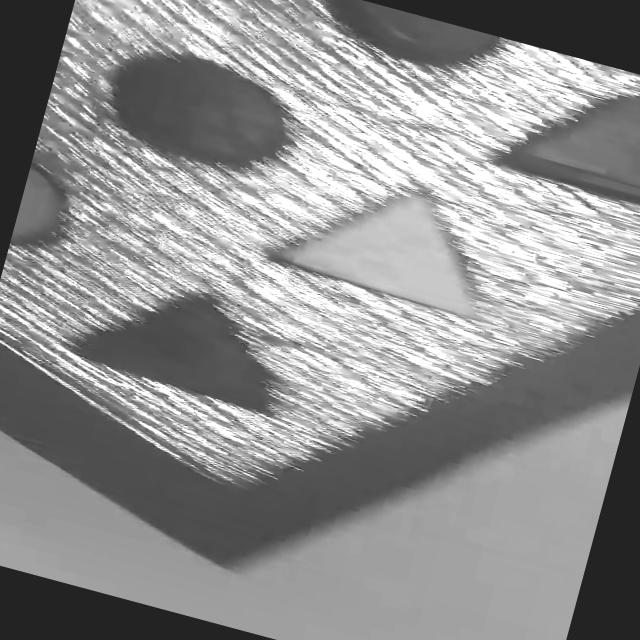btriangle: (29, 245, 330, 436)
rcircle: (86, 22, 318, 192)
rtriangle: (473, 54, 640, 230)
ytriangle: (247, 148, 555, 342)
